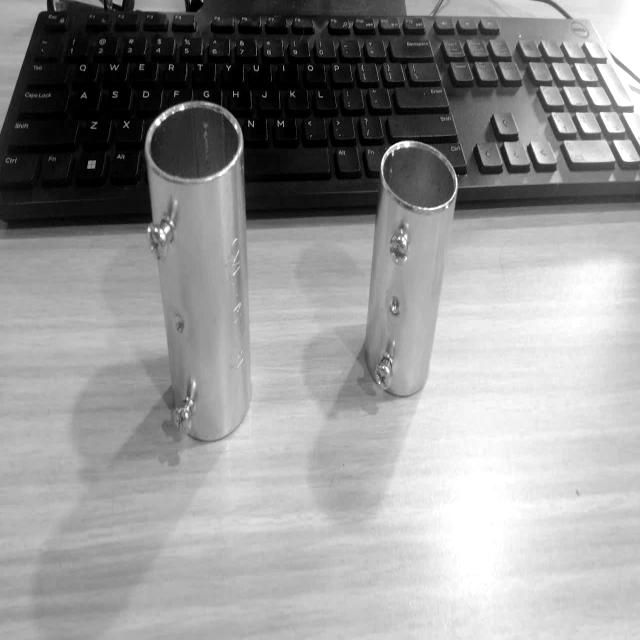Co_Lon: (142, 100, 253, 443)
Co_Nho: (346, 136, 464, 400)
